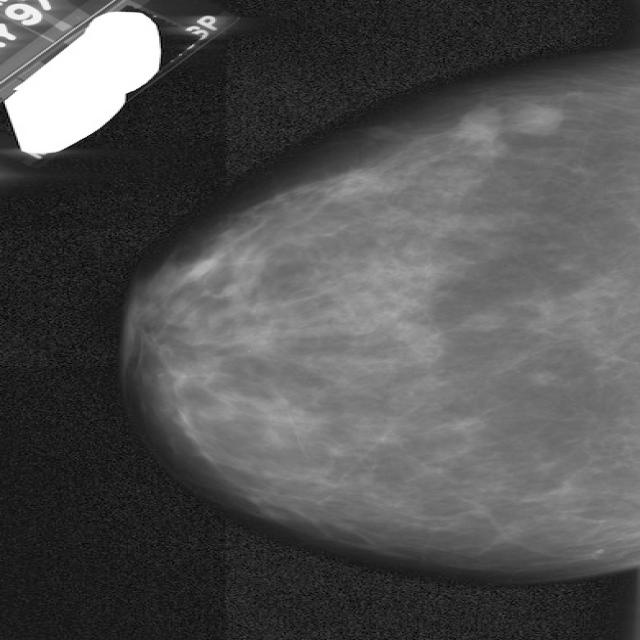tumour: (454, 108, 500, 144), (511, 106, 562, 136)
